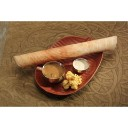dosa: (10, 31, 121, 68)
